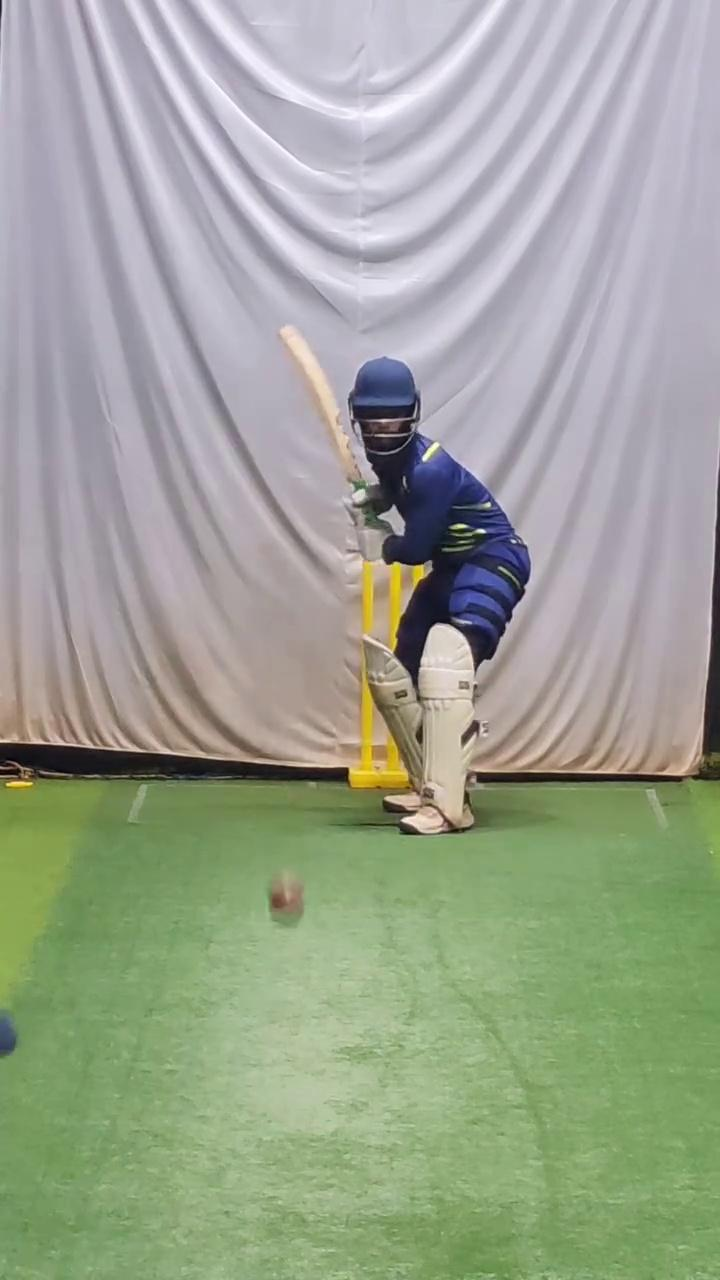bat: (272, 315, 364, 493)
